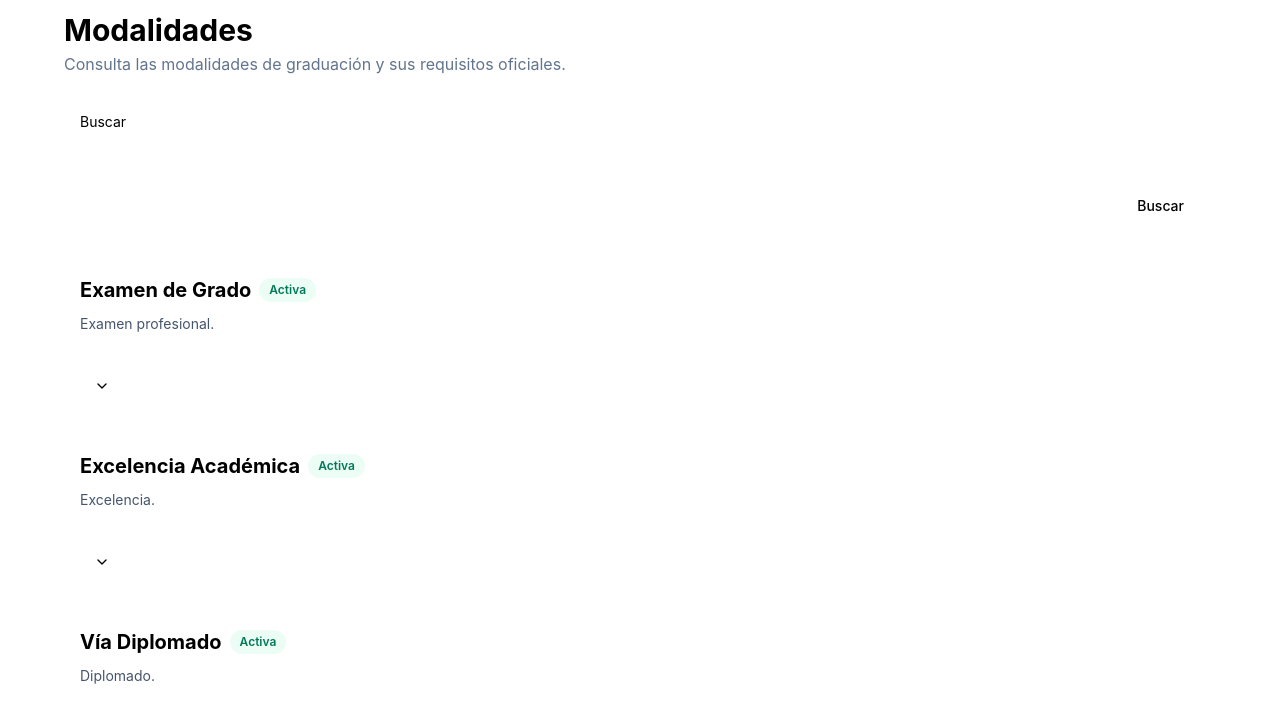
Test: expande el estado vacío sin mostrar acciones administrativas al estudiante
Click the button named "Documentos oficiales (0)" below "Examen profesional.". click: (102, 386)
box: [80,364,124,408]
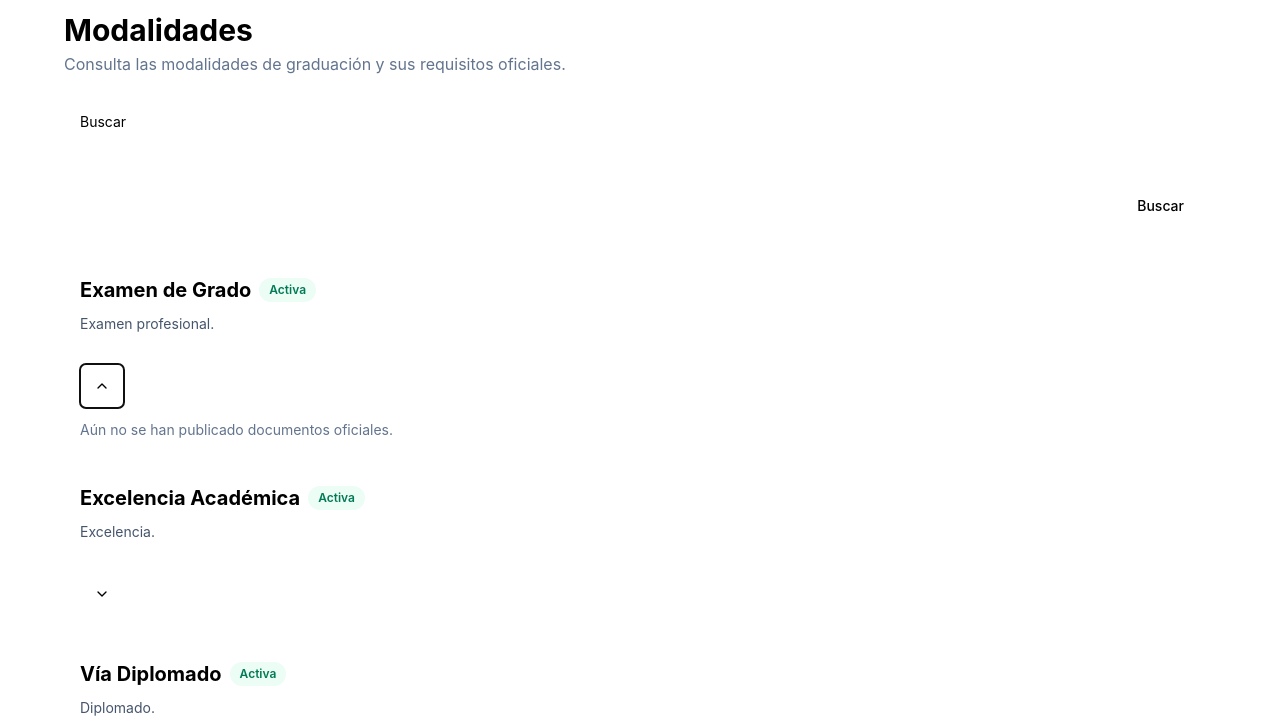
Now the text "Aún no se han publicado documentos oficiales." is shown, box [80,421,393,438]
